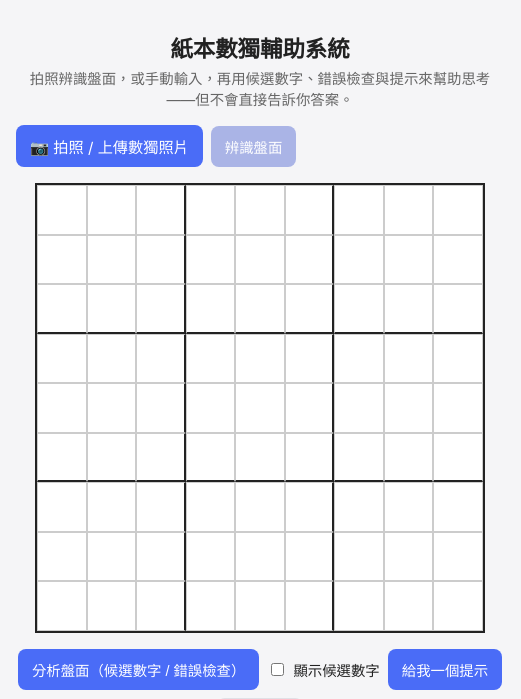
Test case: App › automatically analyzes the board shortly after a manual edit
The width and height of the screenshot is (521, 699).
Step 1. Type "5" into the 1st field with class "cell-input" → coordinates (62, 210), box 38,186 -> 86,234
Wait 600 ms
(page scrolled)
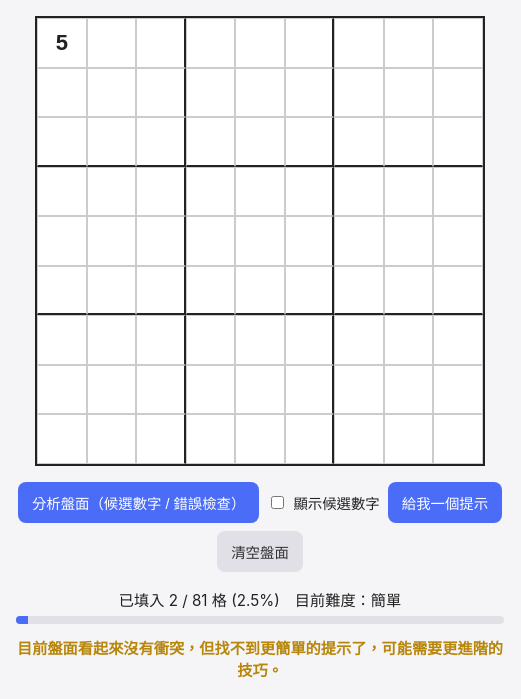
Result: the text "目前盤面看起來沒有衝突，但找不到更簡單的提示了，可能需要更進階的技巧。" is shown at 16,636 -> 504,680
